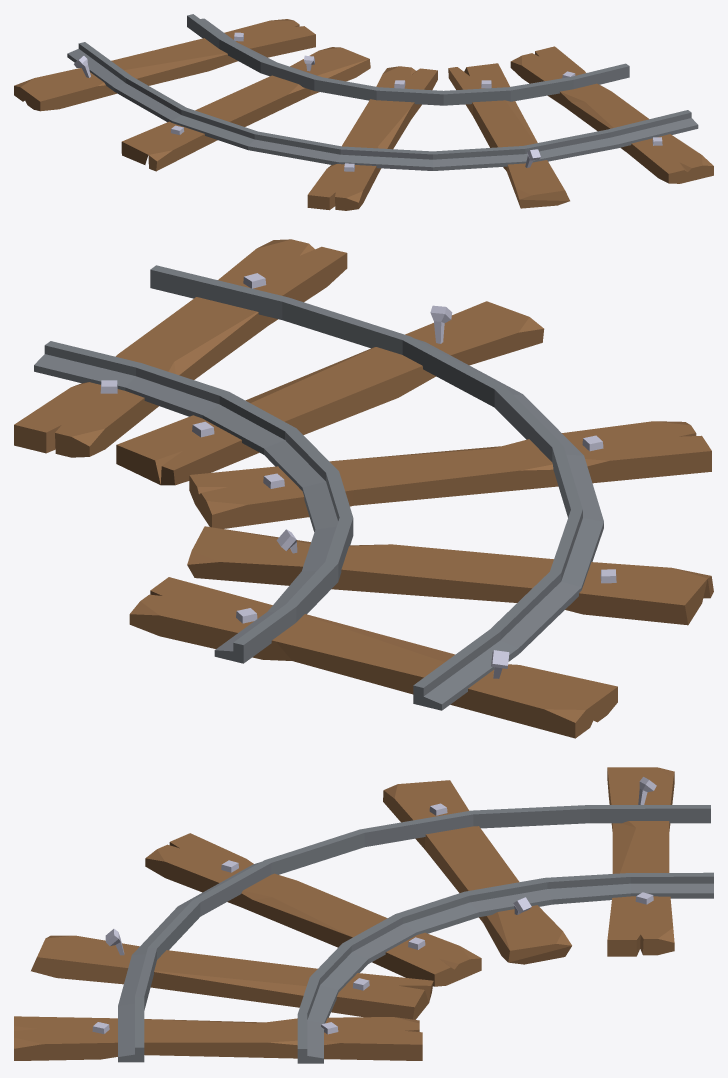
Rendered from Mine track_01.FBX.
3 renders of one model, top to bottom at view 1: azimuth 30°, elevation 25°; view 2: azimuth 150°, elevation 25°; view 3: azimuth 270°, elevation 25°, orthographic. The views are drawn at different scales.
Parts seen in each view (by area): view 1: Mine track_01; view 2: Mine track_01; view 3: Mine track_01.
Part boxes in pixels (x1,y1,x2,y2): Mine track_01: (14,14,713,210); Mine track_01: (14,239,713,738); Mine track_01: (14,767,713,1063).
Size of the model in its own units: 31.14 by 2.06 by 31.36.
